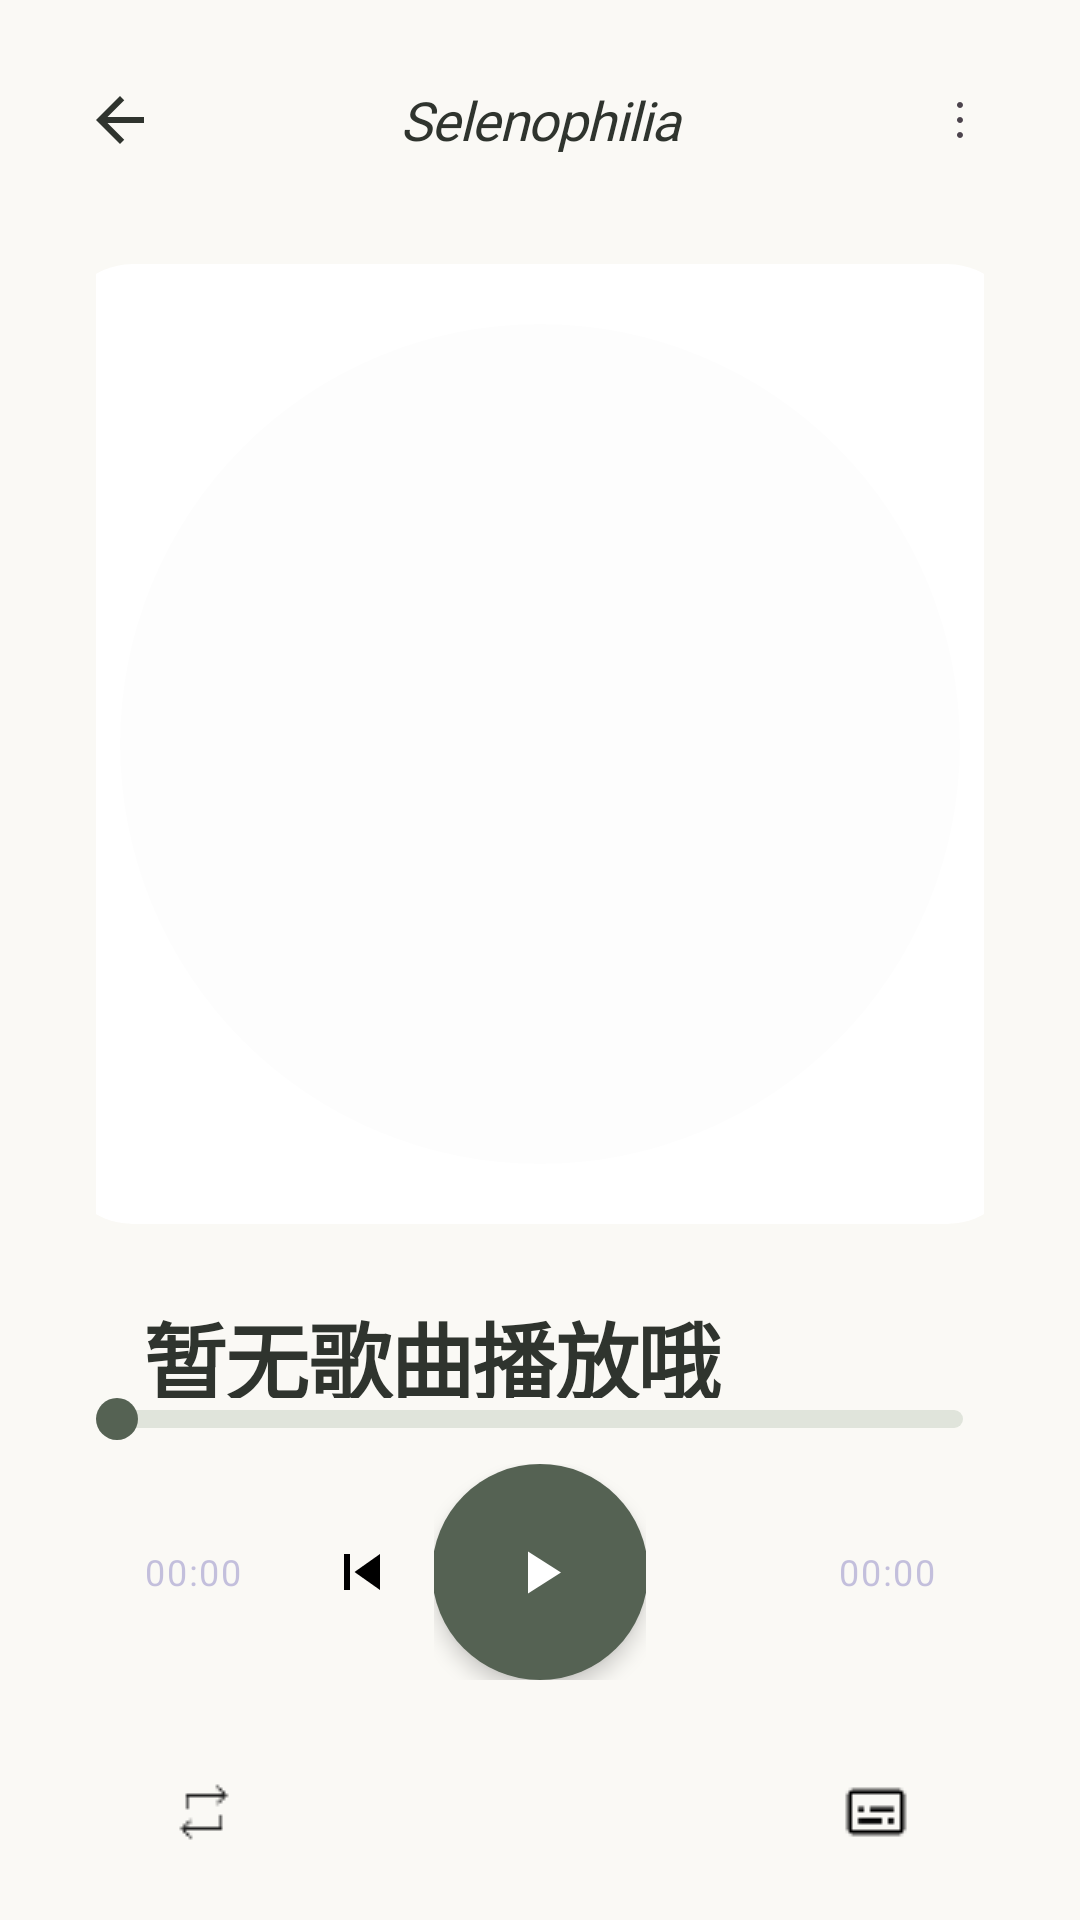

Icons on this 1080px×1920px Android screen, each with the point to tap as [x,y]:
arrow back: [120,120]
more vertical: [960,120]
play: [540,1572]
repeat list: [204,1812]
skip previous: [362,1572]
subtitles: [876,1812]
